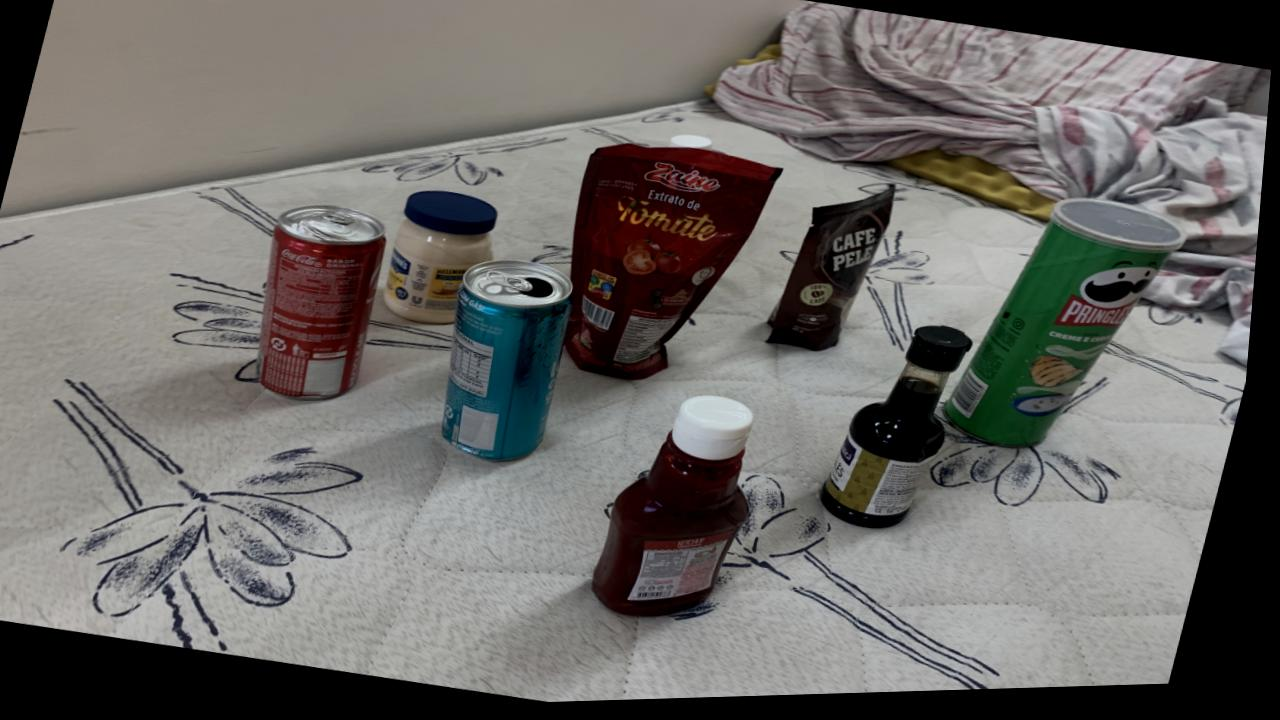Coffee-Pantry_Items: (774, 193, 898, 355)
Coke-Drinks: (263, 207, 389, 401)
English_Sauce-Pantry_Items: (829, 330, 977, 534)
Ketchup-Pantry_Items: (601, 400, 760, 621)
Mayonnaise-Pantry_Items: (388, 193, 501, 327)
Pringles-Snacks: (952, 204, 1191, 453)
Tea-Drinks: (449, 262, 578, 463)
Tomato_Sauce-Pantry_Items: (569, 147, 784, 384)
